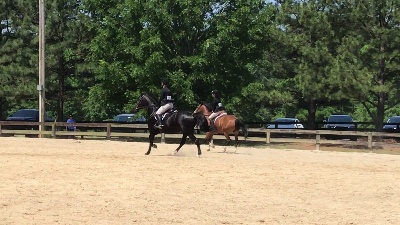jetta: (130, 91, 206, 160)
